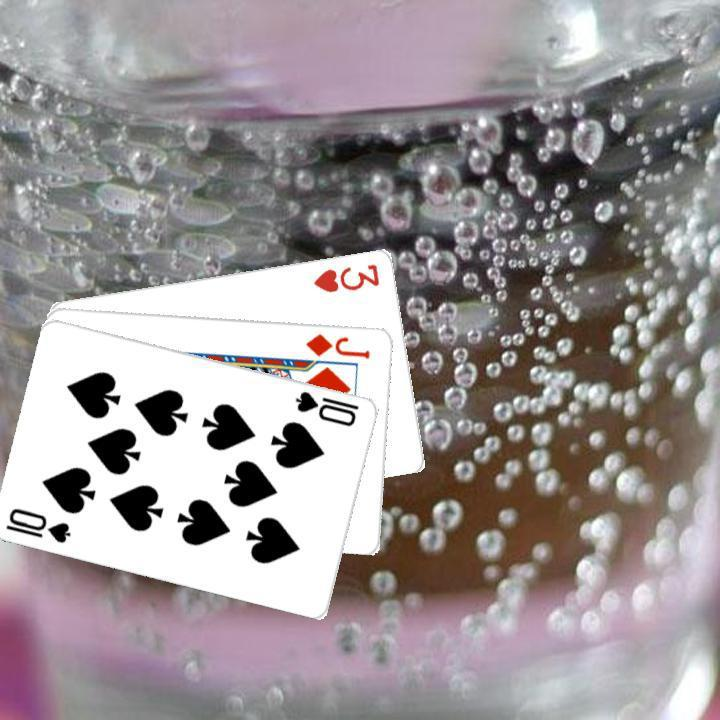10: (2, 503, 74, 545), (291, 386, 362, 428)
3: (309, 259, 382, 294)
J: (301, 328, 372, 361)
